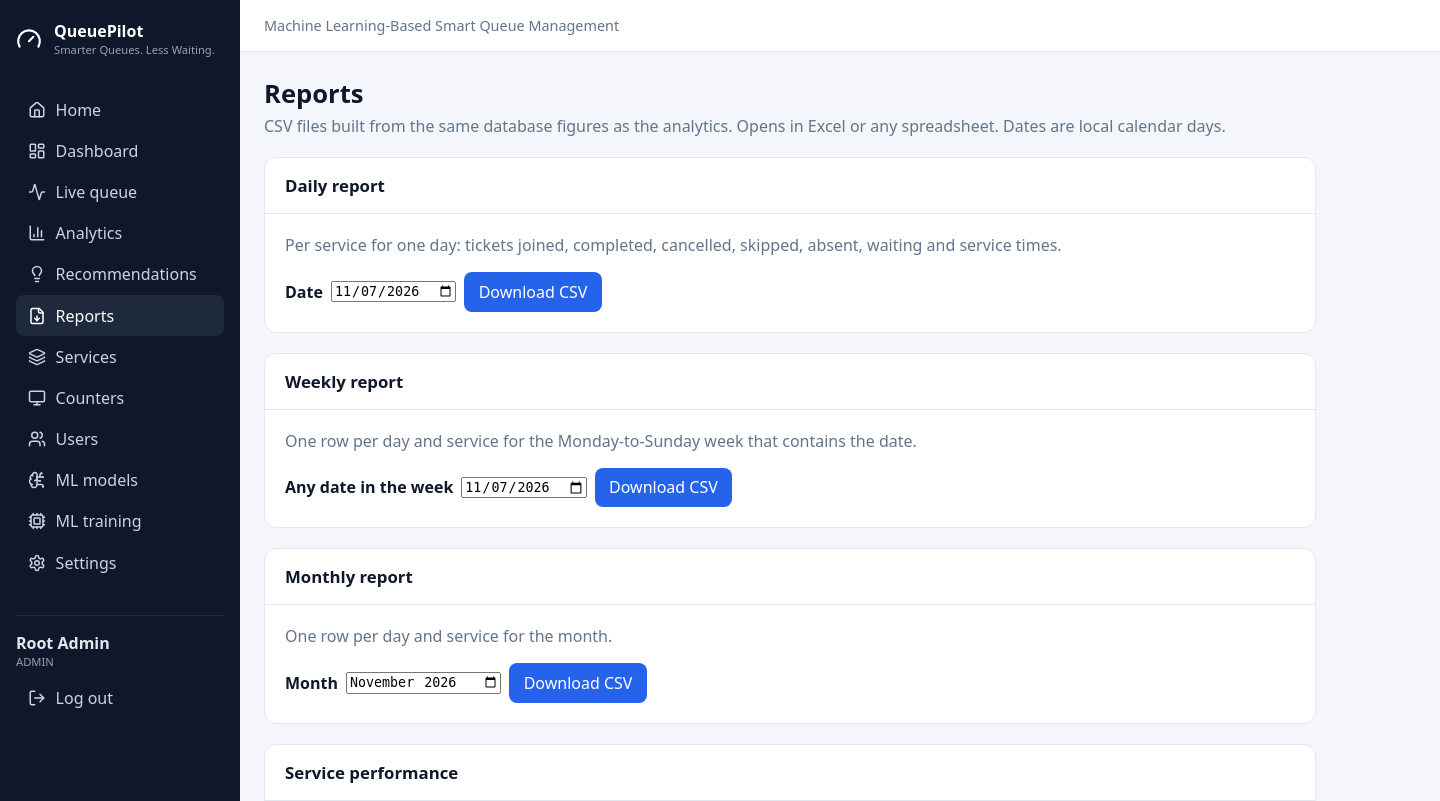
Test: a refused report shows the server message and the button recovers
Click the button with aria-label "Download Monthly report CSV": (578, 683) [509,663,647,703]
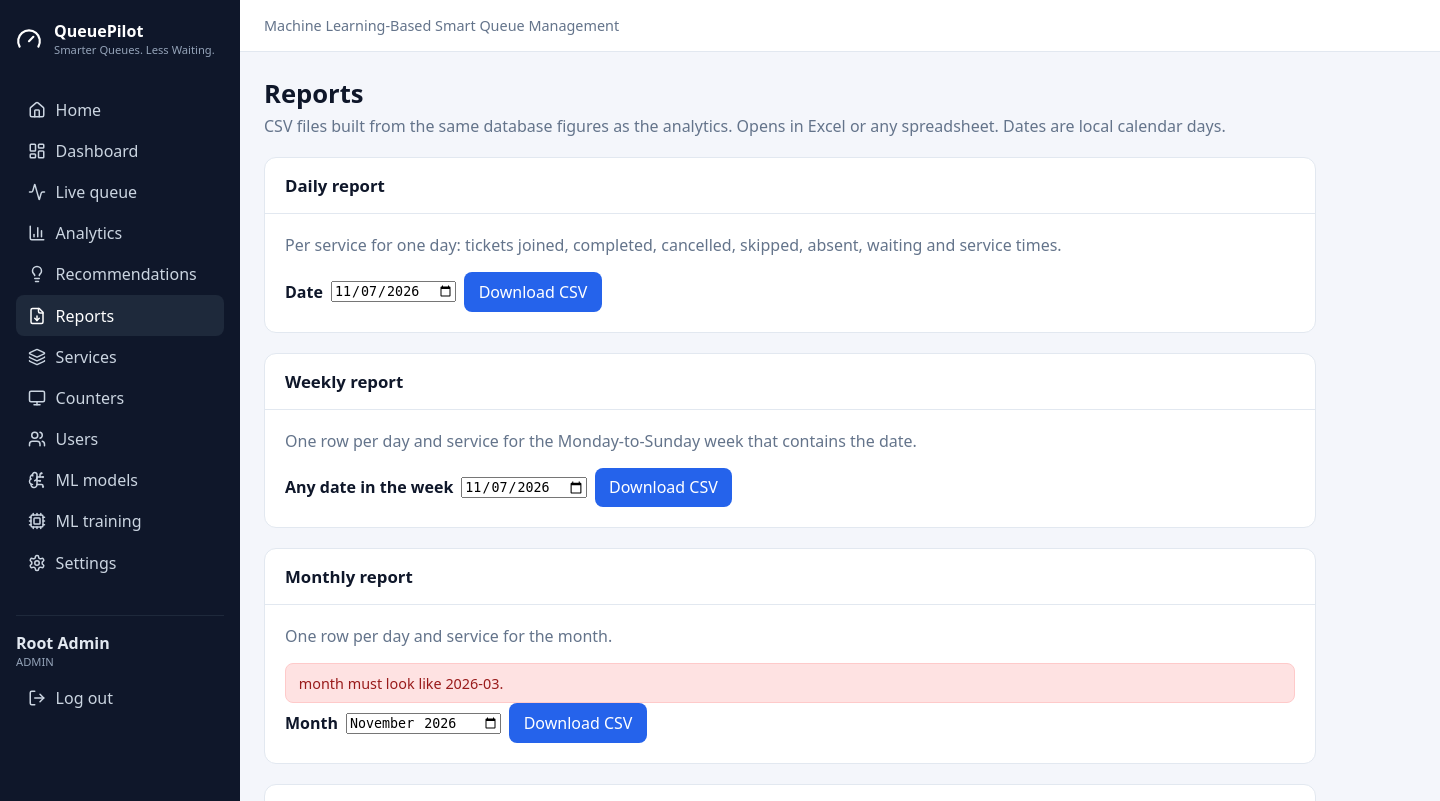
Expected: the button with aria-label "Download Monthly report CSV" is enabled, [509,703,647,743]
Now the text "month must look like 2026-03." is shown, box [285,663,1295,703]
